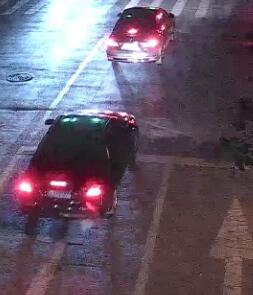car: (15, 108, 139, 220), (106, 7, 174, 63)
